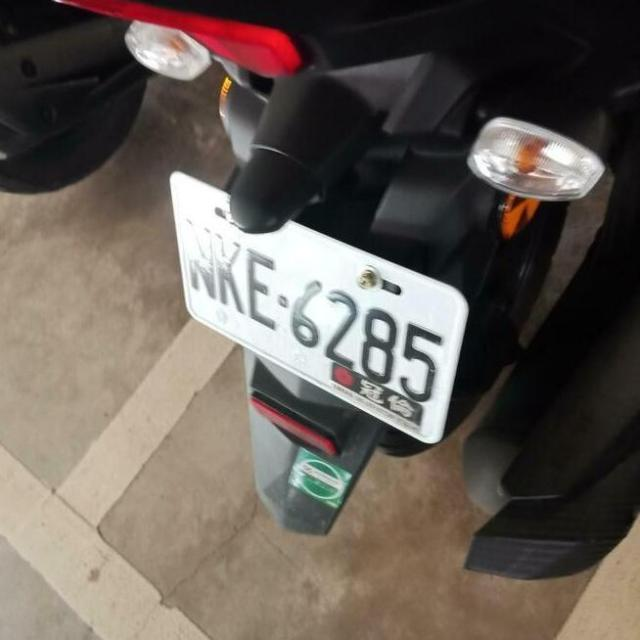W: (154, 175, 491, 454)
